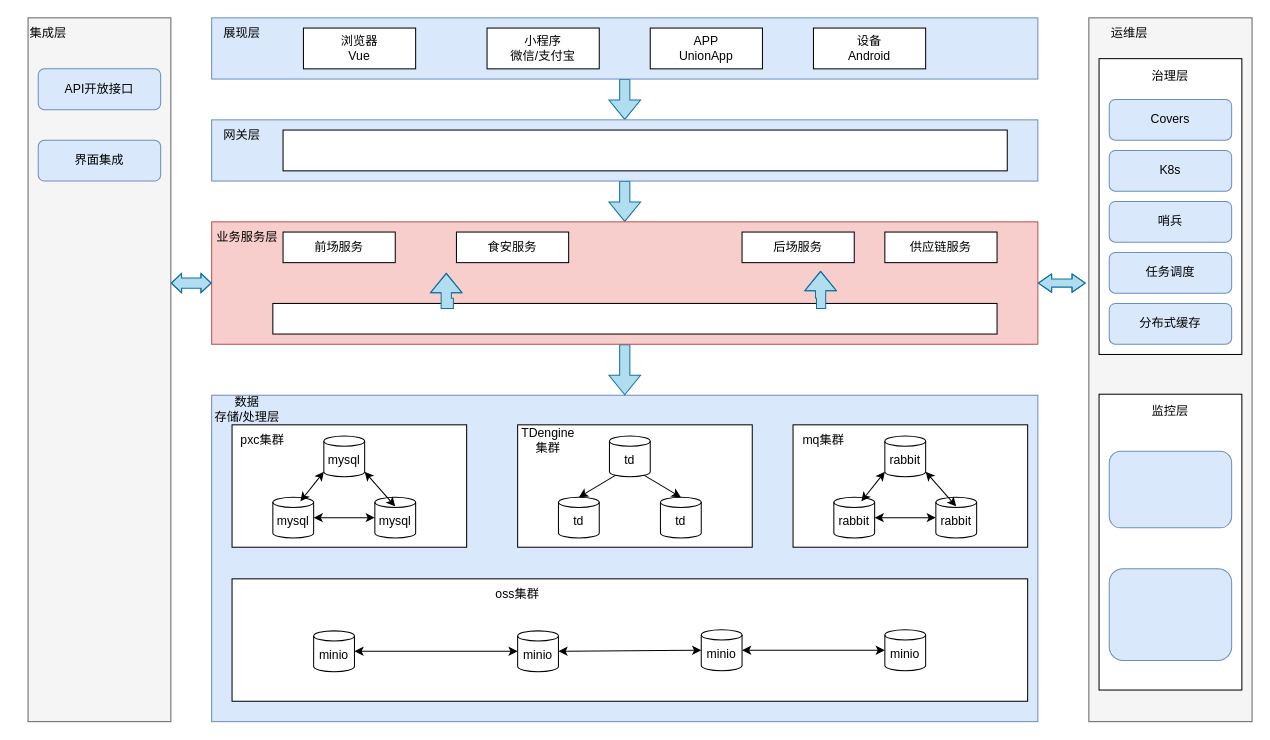
Image size: 1270x740. Some labels were removed from this diagram. Here are the shapes that lost their labels. From the top down, the centre of each, then its label:
At pixel 644 150: "Openresty 路由转发/负载均衡/证书卸载/trace跟踪".
At pixel 634 318: "基础服务".
At pixel 1170 489: "指标度量".
At pixel 1170 614: "日志收集".
